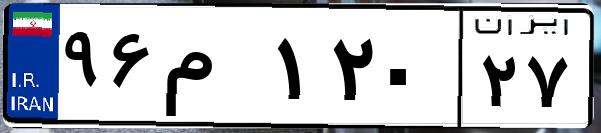0: (385, 28, 445, 110)
1: (270, 28, 330, 110)
2: (330, 28, 385, 110), (475, 38, 525, 113)
6: (110, 28, 158, 98)
7: (525, 38, 570, 115)
9: (57, 26, 110, 100)
م: (158, 20, 270, 120)
